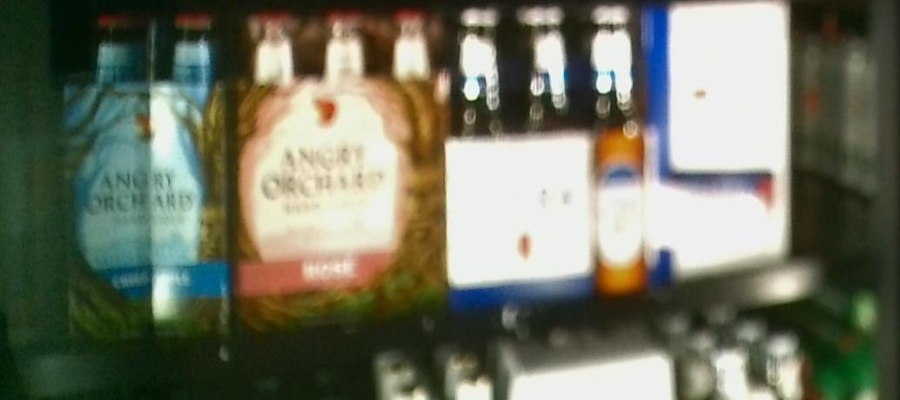bottle: (228, 7, 448, 326), (448, 3, 647, 303), (63, 12, 232, 339), (645, 3, 796, 282)
